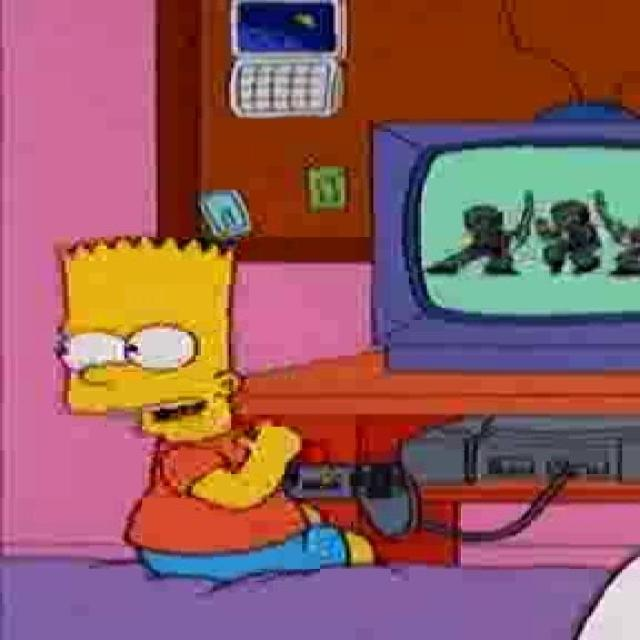Bart Simpson: (52, 234, 250, 447)
